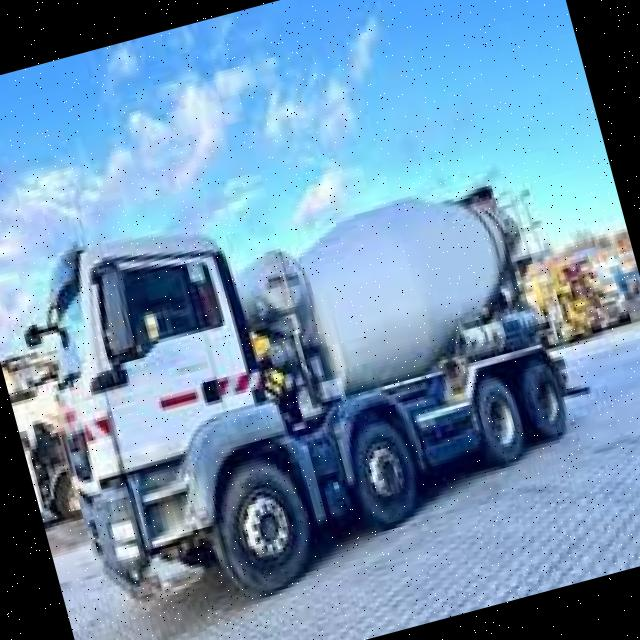Mixer Truck: (3, 123, 615, 640)
